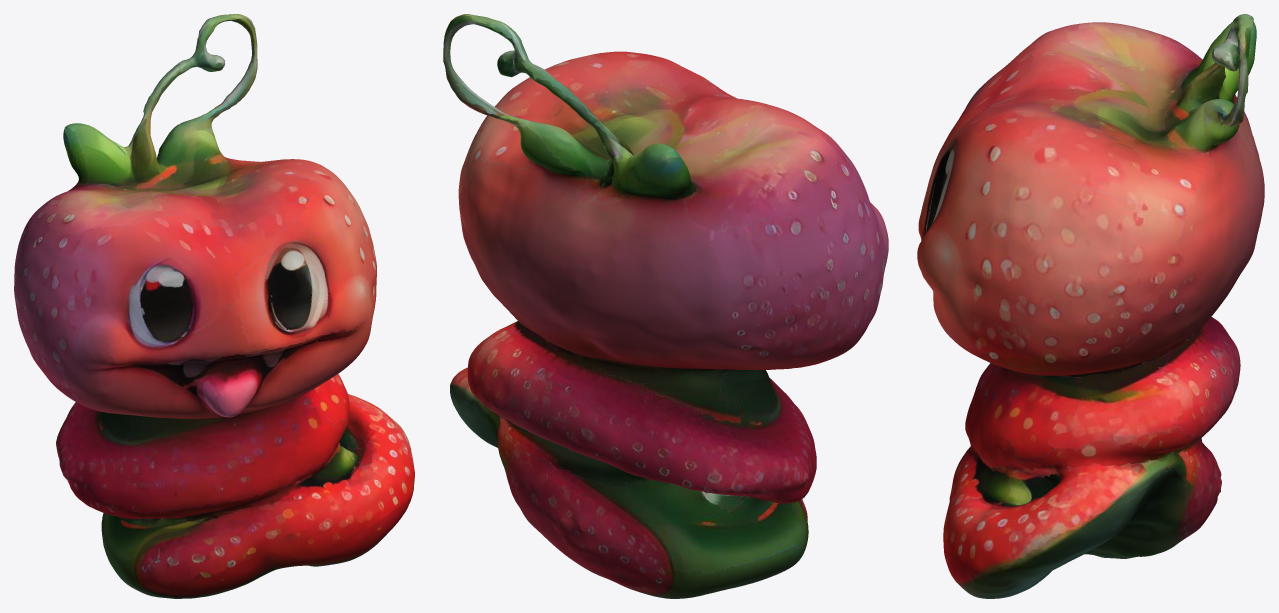
3 renders of one model, left to right at view 1: azimuth 30°, elevation 25°; view 2: azimuth 150°, elevation 25°; view 3: azimuth 270°, elevation 25°, orthographic. The views are drawn at different scales.
Parts seen in each view (by area): view 1: world; view 2: world; view 3: world.
Boxes of the visible parts, x1,y1,x2,y2 form: world: [14, 14, 414, 598]; world: [443, 14, 888, 598]; world: [917, 14, 1264, 598].
Bounding box in the file's own units: 1.54 × 1.97 × 1.09.
Materials: 1 (1 with a texture image).
